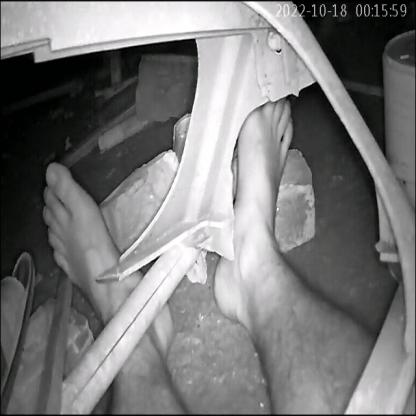leg: (204, 87, 373, 416), (37, 156, 194, 416)
